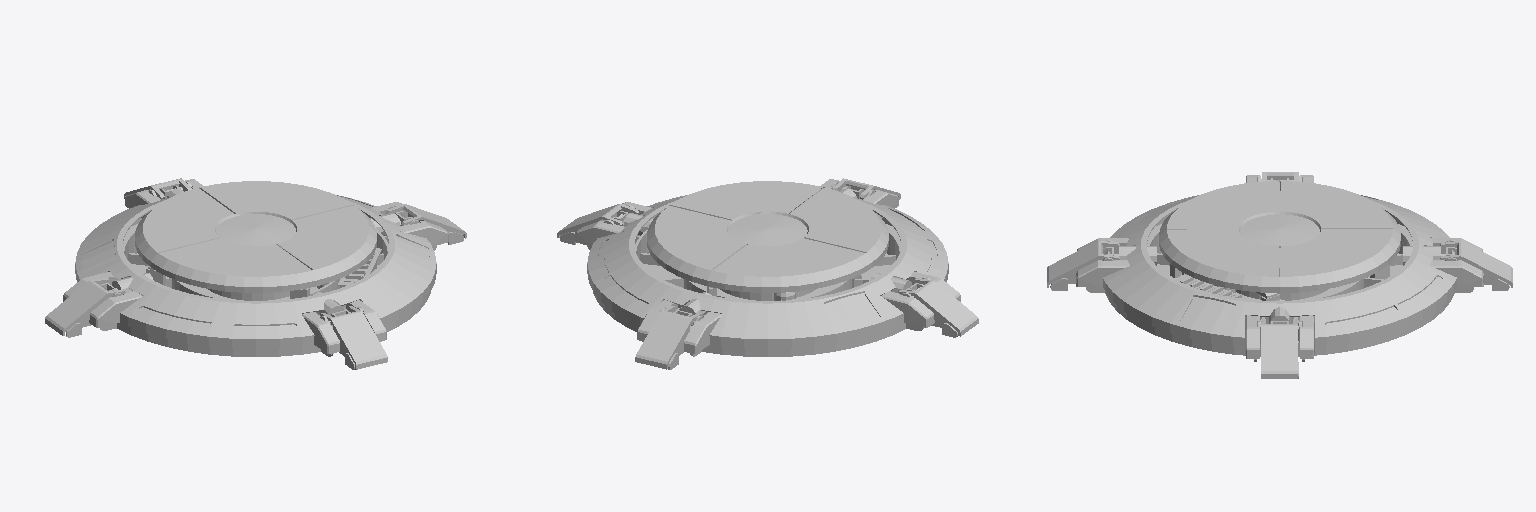
File: weighted_button.obj
3 renders of one model, left to right at view 1: azimuth 30°, elevation 25°; view 2: azimuth 150°, elevation 25°; view 3: azimuth 270°, elevation 25°, orthographic.
Parts seen in each view (by area): view 1: button_model; view 2: button_model; view 3: button_model.
Boxes of the visible parts, x1,y1,x2,y2 form: button_model: [45, 178, 466, 369]; button_model: [557, 178, 978, 369]; button_model: [1047, 172, 1512, 378].
Size of the model in its own units: 0.9551 by 0.1222 by 0.9551.